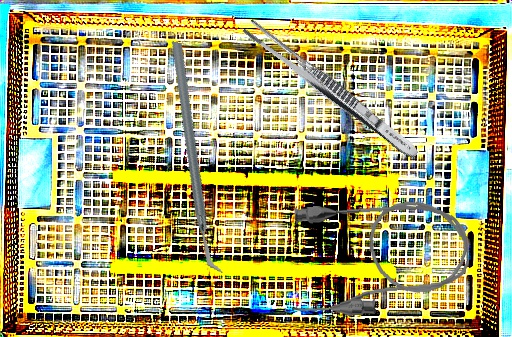Cannula: (283, 193, 473, 321)
Chopper: (116, 40, 279, 274)
Dressing Forceps: (240, 18, 423, 163)
